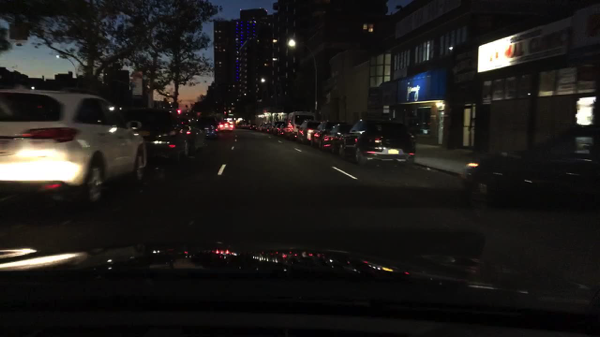car: (0, 86, 148, 207), (463, 125, 599, 251), (123, 106, 195, 165), (337, 117, 415, 167), (178, 113, 208, 152), (311, 120, 345, 149), (283, 110, 315, 139), (323, 122, 352, 154), (296, 118, 323, 143), (196, 115, 220, 138), (219, 118, 234, 132), (275, 121, 289, 135), (271, 120, 281, 135), (255, 122, 265, 132), (264, 122, 274, 132), (249, 124, 258, 132)
traffic sign: (132, 71, 143, 100)
